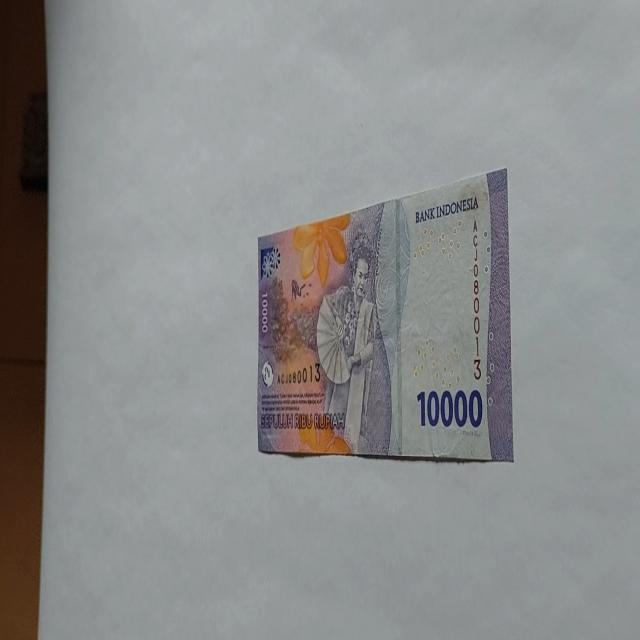sepuluh ribu rupiah: (255, 165, 513, 462), (412, 194, 480, 224)
